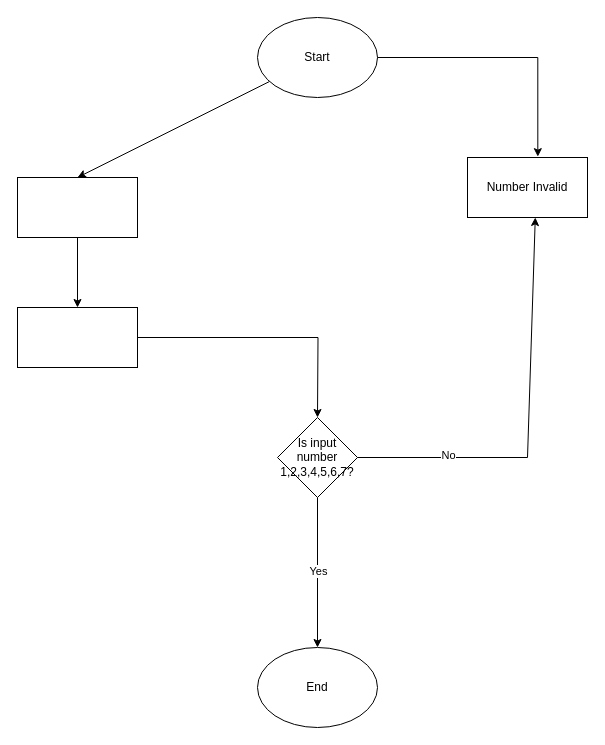
This 605x745 diagram has some shape labels left out. Here are the shapes that lost their labels. From the top down, the box of each, then its label:
(16, 176, 138, 238): Input Number 1-7
(16, 306, 138, 368): Monday=1, Tuesday=2, Wednesday=3, Thursday=4 Friday=5, Saturday=6, Sunday=7
